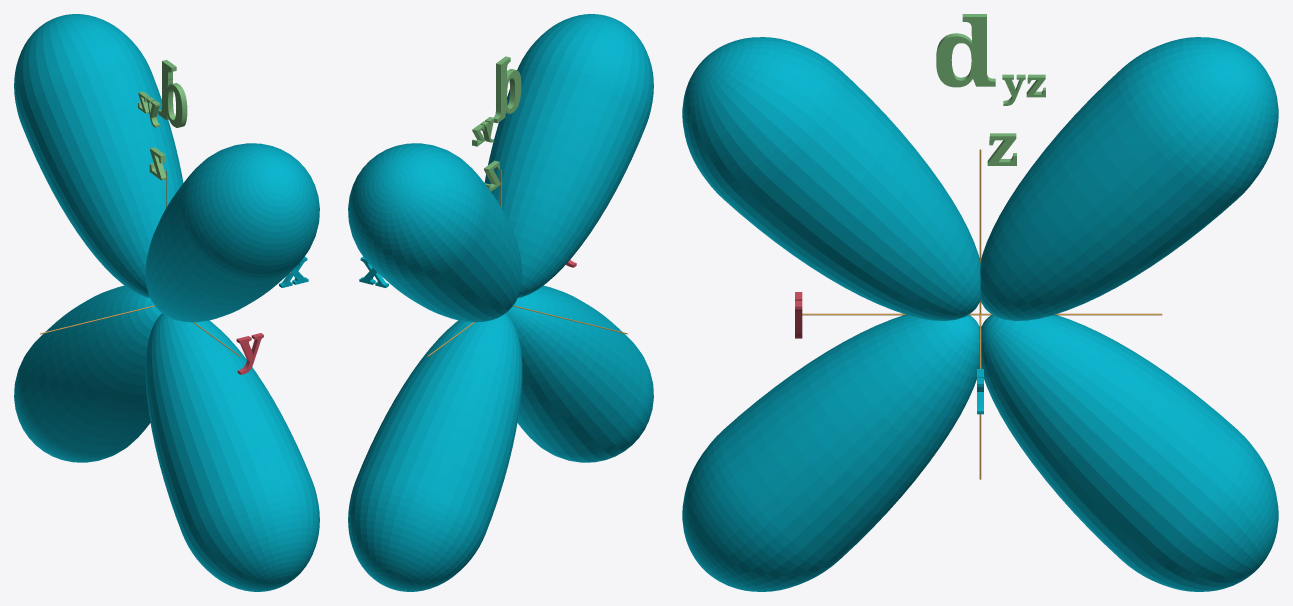
Rendered from dyz.glb.
3 views of the same model, side by side, from view 1: azimuth 30°, elevation 25°; view 2: azimuth 150°, elevation 25°; view 3: azimuth 270°, elevation 25° (orthographic). The views are drawn at different scales.
Visible parts, largest first — view 1: Mesh_Mesh_head_geo.001_lambert2SG.001; view 2: Mesh_Mesh_head_geo.001_lambert2SG.001; view 3: Mesh_Mesh_head_geo.001_lambert2SG.001.
Boxes of the visible parts, x1,y1,x2,y2 form: Mesh_Mesh_head_geo.001_lambert2SG.001: [14, 14, 319, 591]; Mesh_Mesh_head_geo.001_lambert2SG.001: [348, 14, 653, 591]; Mesh_Mesh_head_geo.001_lambert2SG.001: [682, 14, 1278, 591].
Bounding box in the file's own units: 52.62 × 86.32 × 81.96.
